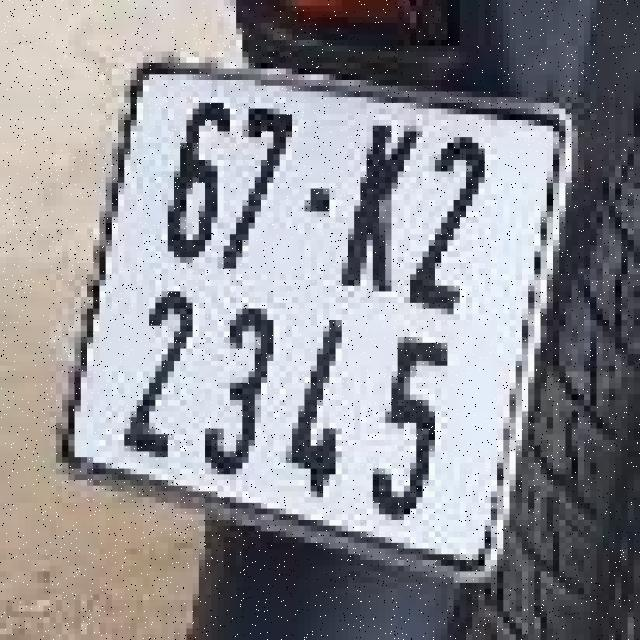2: (400, 123, 521, 325), (103, 275, 222, 470)
3: (185, 291, 297, 488)
4: (266, 304, 391, 514)
5: (346, 318, 474, 529)
6: (154, 88, 247, 273)
7: (212, 96, 313, 289)
K: (323, 111, 443, 309)
